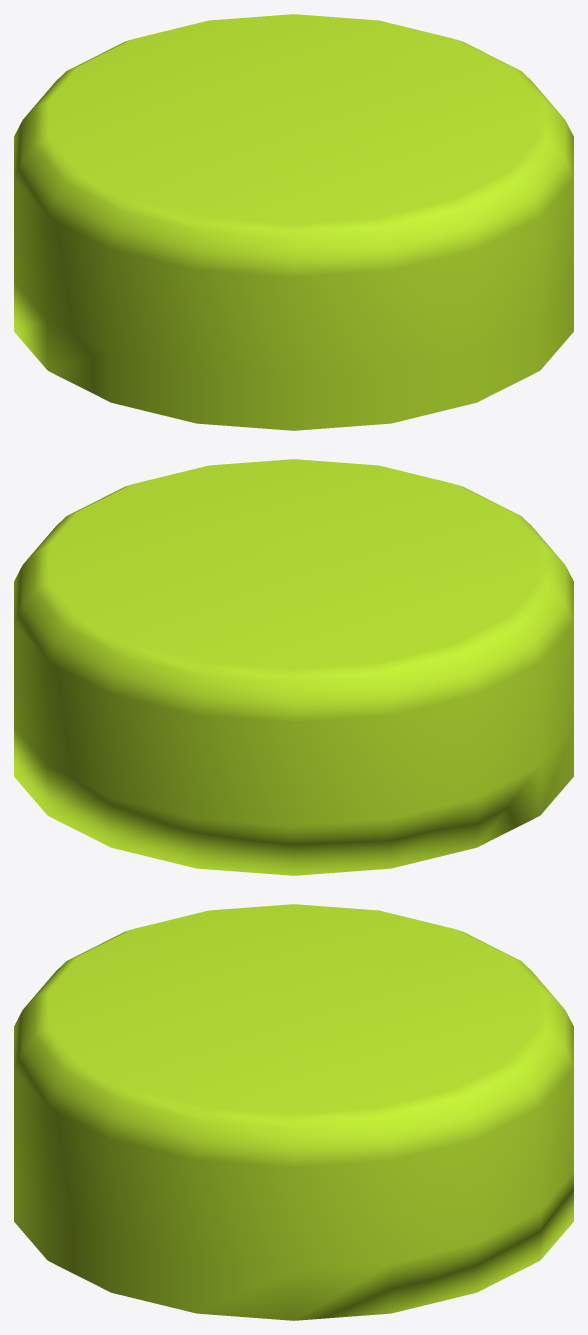
Rendered from _eadcube5.fbx.
3 views of the same model, one above another, from view 1: azimuth 30°, elevation 25°; view 2: azimuth 150°, elevation 25°; view 3: azimuth 270°, elevation 25° (orthographic).
Parts seen in each view (by area): view 1: head_cube5; view 2: head_cube5; view 3: head_cube5.
Boxes of the visible parts, <box> form: head_cube5: <box>14,14,573,430</box>; head_cube5: <box>14,459,573,875</box>; head_cube5: <box>14,904,573,1320</box>.
Bounding box in the file's own units: 60.87 × 22.62 × 59.94.
